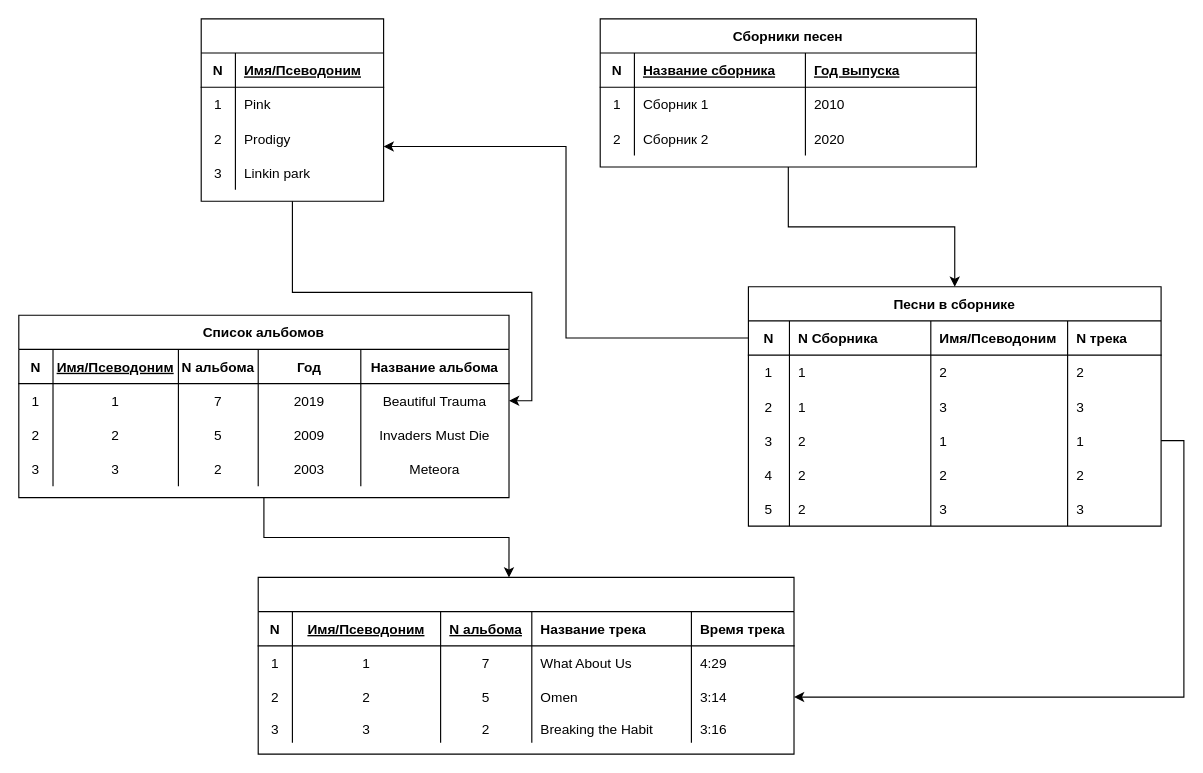
This 1203x773 diagram has some shape labels left out. Here are the shapes that lost their labels. From the top down, the box of each, then its label:
(200, 18, 384, 201): Список исполниетелей
(257, 576, 794, 754): Список треков
